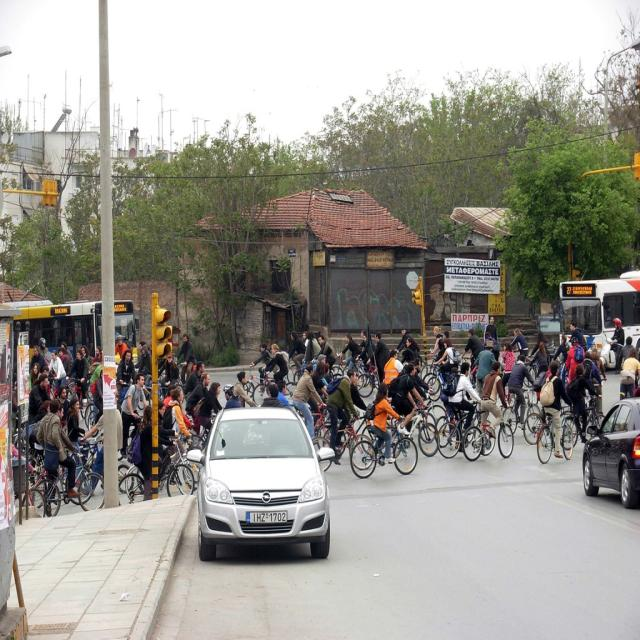car: (184, 398, 335, 562)
